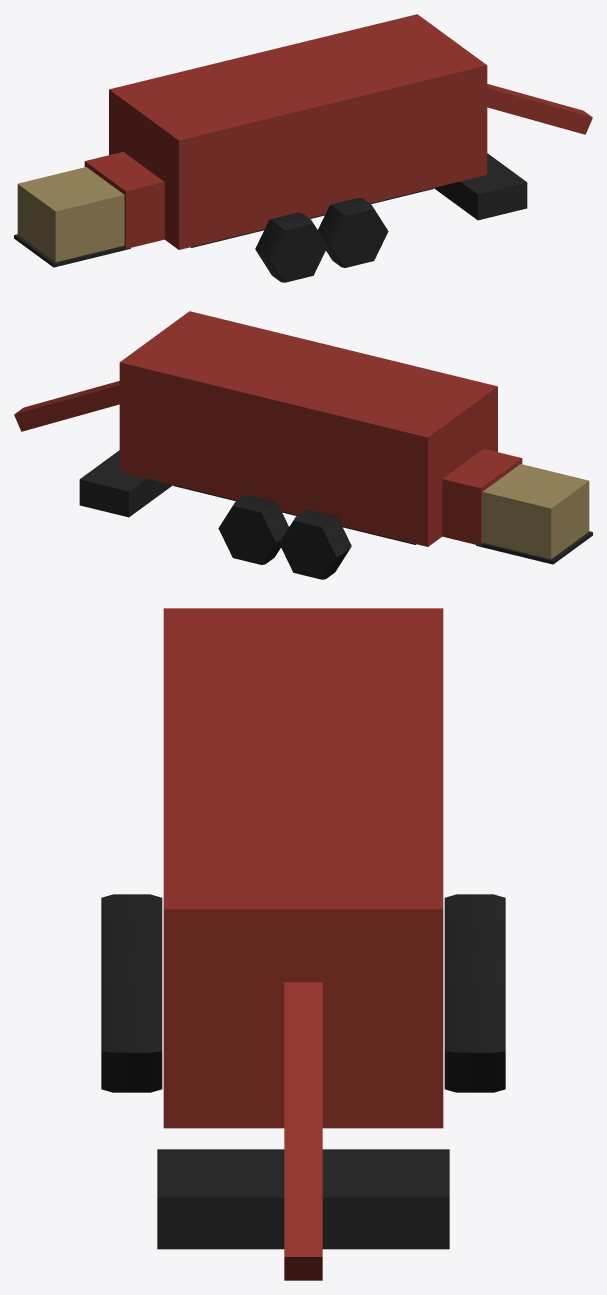
File: SM_Prop_farm_baler_0_LOD2.glb
The picture shows the model from 3 angles, top to bottom: view 1: azimuth 30°, elevation 25°; view 2: azimuth 150°, elevation 25°; view 3: azimuth 270°, elevation 25°; orthographic projection. The views are drawn at different scales.
Visible parts, largest first — view 1: SM_Prop_farm_baler_0_LOD2; view 2: SM_Prop_farm_baler_0_LOD2; view 3: SM_Prop_farm_baler_0_LOD2.
Boxes of the visible parts, x1,y1,x2,y2 form: SM_Prop_farm_baler_0_LOD2: (14, 14, 592, 282); SM_Prop_farm_baler_0_LOD2: (14, 311, 592, 579); SM_Prop_farm_baler_0_LOD2: (101, 608, 505, 1280).
Size of the model in its own units: 10.07 by 2.68 by 3.18.
